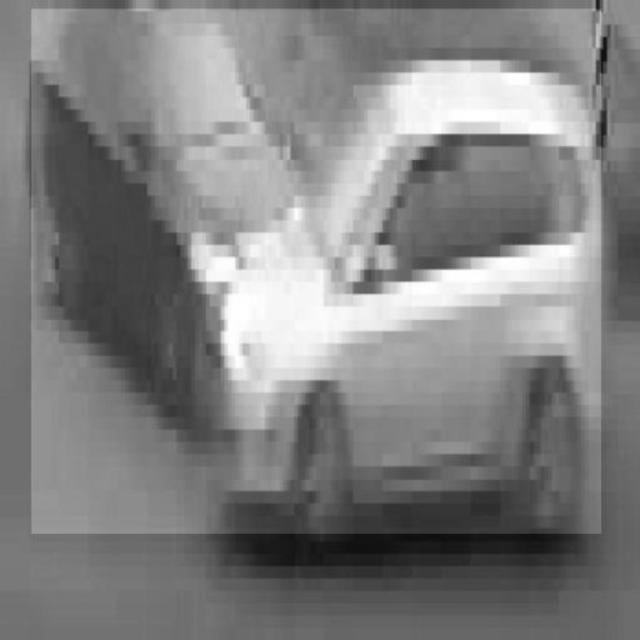accident: (32, 9, 602, 534)
